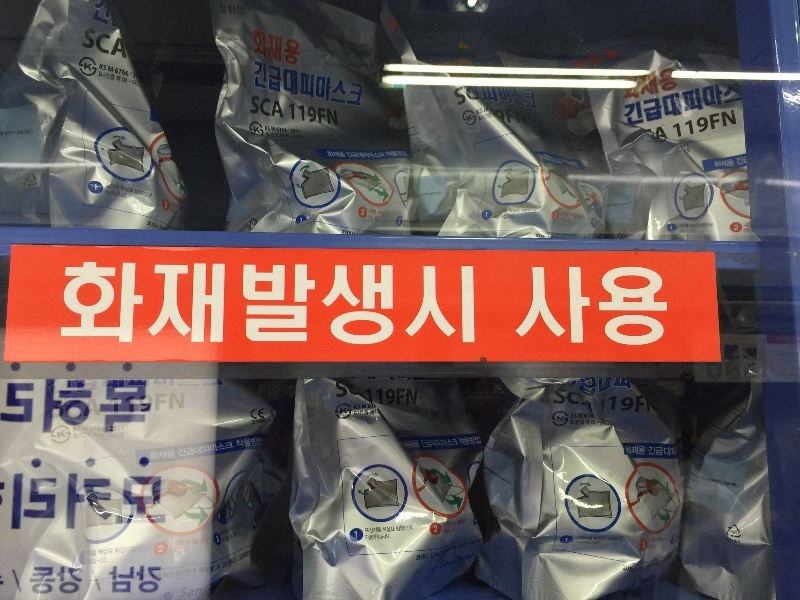text: (65, 259, 80, 353), (81, 259, 96, 353), (97, 259, 112, 353), (113, 259, 128, 353), (129, 259, 144, 353), (145, 259, 160, 353), (161, 259, 176, 353), (177, 259, 192, 353), (193, 259, 208, 353), (209, 259, 224, 353), (225, 259, 240, 353), (241, 259, 256, 353), (257, 259, 272, 353), (273, 259, 288, 353), (289, 259, 304, 353), (305, 259, 320, 353), (321, 259, 336, 353), (337, 259, 352, 353), (353, 259, 368, 353), (369, 259, 384, 353), (385, 259, 400, 353), (401, 259, 416, 353), (417, 259, 432, 353), (433, 259, 448, 353), (449, 259, 464, 353), (529, 264, 544, 348), (545, 264, 560, 348), (561, 264, 576, 348), (577, 264, 592, 348), (593, 264, 608, 348), (609, 264, 624, 348), (625, 264, 640, 348), (641, 264, 656, 348), (657, 264, 672, 348), (465, 259, 476, 353), (1, 379, 16, 438), (17, 379, 32, 438), (33, 379, 48, 438), (49, 379, 64, 438), (65, 379, 80, 438), (81, 379, 96, 438), (97, 379, 112, 438), (113, 379, 128, 438), (129, 379, 144, 438), (17, 472, 32, 531), (33, 472, 48, 531), (49, 472, 64, 531), (65, 472, 80, 531), (81, 472, 96, 531), (97, 472, 112, 531), (113, 472, 128, 531), (129, 472, 144, 531), (145, 472, 160, 531), (257, 59, 272, 108), (273, 59, 288, 108), (289, 59, 304, 108), (305, 59, 320, 108), (321, 59, 336, 108), (337, 59, 352, 108), (625, 81, 640, 128), (641, 81, 656, 128), (657, 81, 672, 128), (673, 81, 688, 128), (689, 81, 704, 128), (705, 81, 720, 128), (721, 81, 736, 128), (257, 27, 272, 68), (273, 27, 288, 68), (353, 59, 365, 108), (97, 27, 112, 60), (289, 27, 301, 68), (561, 386, 576, 417), (577, 386, 592, 417), (113, 27, 127, 60), (113, 564, 128, 594), (129, 564, 144, 594), (145, 564, 160, 594), (33, 565, 48, 595), (49, 565, 64, 595), (65, 565, 80, 595), (97, 1, 112, 29), (161, 472, 168, 531), (769, 351, 784, 378), (785, 351, 800, 378), (113, 391, 128, 417), (129, 391, 144, 417), (145, 391, 160, 417), (161, 391, 176, 417), (641, 70, 656, 96), (737, 81, 745, 128), (257, 94, 272, 119), (1, 483, 16, 508), (658, 67, 672, 93), (289, 103, 304, 127), (305, 103, 320, 127), (321, 103, 336, 127), (465, 85, 481, 107), (65, 397, 80, 420), (81, 397, 96, 420), (593, 377, 608, 400), (609, 377, 624, 400), (673, 115, 688, 138), (689, 115, 704, 138), (497, 87, 512, 110), (513, 87, 528, 110), (721, 109, 737, 130), (641, 553, 656, 575), (657, 553, 672, 575), (86, 27, 96, 60), (578, 377, 592, 400), (449, 536, 464, 556), (465, 536, 480, 556), (449, 552, 464, 571), (609, 395, 624, 414), (625, 395, 640, 414), (52, 397, 64, 420), (273, 94, 284, 119), (452, 85, 464, 107), (177, 441, 192, 458), (193, 441, 208, 458), (209, 441, 224, 458), (369, 388, 384, 405), (385, 388, 400, 405), (401, 388, 416, 405), (49, 380, 64, 396), (65, 380, 80, 396), (81, 380, 96, 396), (97, 380, 112, 396), (113, 380, 128, 396), (129, 380, 144, 396), (145, 380, 160, 396), (321, 204, 336, 220), (513, 109, 528, 125), (481, 87, 496, 103), (705, 56, 720, 72), (721, 56, 736, 72), (177, 391, 186, 417), (709, 109, 720, 130), (465, 552, 477, 571), (273, 384, 288, 399), (625, 86, 640, 101), (513, 52, 528, 67), (529, 52, 544, 67), (161, 380, 175, 396), (657, 125, 671, 141), (675, 440, 688, 457), (337, 378, 348, 398), (545, 52, 559, 67), (625, 377, 634, 400), (529, 87, 538, 110), (252, 59, 256, 108), (499, 52, 512, 67), (484, 464, 496, 480), (308, 204, 320, 220), (62, 259, 64, 353), (690, 470, 704, 483), (689, 551, 703, 564), (673, 67, 680, 93), (161, 449, 176, 461), (561, 378, 576, 390), (129, 77, 144, 89), (225, 5, 240, 17), (13, 472, 16, 531), (225, 441, 235, 458), (689, 558, 703, 570), (113, 1, 119, 29), (708, 364, 720, 378), (657, 446, 672, 457), (1, 575, 16, 586), (241, 437, 256, 448), (545, 153, 560, 164), (113, 189, 128, 200), (252, 27, 256, 68), (97, 397, 104, 420), (408, 135, 416, 155), (180, 586, 192, 599), (115, 67, 128, 79), (555, 386, 560, 417), (725, 364, 736, 378), (725, 346, 736, 360), (562, 137, 576, 148), (440, 552, 448, 571), (600, 395, 608, 414), (721, 478, 736, 488), (177, 567, 192, 577), (465, 436, 480, 446), (177, 379, 192, 389), (193, 379, 208, 389), (209, 379, 224, 389), (742, 401, 752, 416), (337, 204, 346, 220), (99, 70, 112, 81), (563, 159, 576, 170), (179, 203, 192, 214), (721, 158, 735, 168), (97, 424, 112, 433), (433, 439, 448, 448), (289, 384, 298, 399), (417, 190, 432, 199), (385, 132, 400, 141), (229, 521, 240, 533), (228, 556, 240, 567), (149, 449, 160, 461), (481, 111, 493, 122), (193, 586, 203, 599), (241, 550, 251, 563), (497, 109, 507, 122), (504, 109, 512, 125), (642, 541, 656, 550), (743, 362, 752, 376), (17, 568, 22, 593), (251, 94, 256, 119), (689, 476, 704, 484), (673, 536, 688, 544), (625, 564, 637, 574), (442, 536, 448, 556), (209, 564, 221, 574), (108, 564, 112, 594), (100, 63, 112, 73), (129, 67, 139, 79), (465, 114, 480, 122), (148, 220, 160, 230), (145, 379, 147, 438), (115, 546, 128, 555), (403, 220, 416, 229), (705, 115, 710, 138), (434, 525, 448, 533), (354, 531, 368, 539), (98, 548, 112, 556), (402, 440, 416, 448), (229, 530, 240, 540), (501, 475, 512, 485), (420, 439, 432, 448), (84, 62, 96, 71), (743, 348, 752, 360), (164, 201, 176, 210), (369, 534, 384, 541), (353, 382, 360, 397), (353, 377, 368, 384), (369, 377, 384, 384), (385, 377, 400, 384), (401, 377, 416, 384), (417, 377, 432, 384), (353, 152, 368, 159), (369, 152, 384, 159), (609, 201, 624, 208), (680, 551, 688, 564), (417, 553, 430, 561), (648, 399, 656, 412), (710, 478, 720, 488), (742, 156, 752, 166), (631, 446, 640, 457), (453, 518, 464, 527), (113, 424, 124, 433), (81, 431, 92, 440), (497, 208, 508, 217), (354, 410, 368, 417), (386, 212, 400, 219), (625, 76, 639, 83), (657, 536, 669, 544), (177, 546, 189, 554), (257, 408, 265, 420), (641, 395, 646, 414), (401, 525, 414, 532), (369, 527, 382, 534), (161, 572, 174, 579), (113, 432, 126, 439), (483, 106, 496, 113), (609, 537, 624, 543), (199, 564, 208, 574), (29, 565, 32, 595), (353, 404, 368, 410), (449, 439, 459, 448), (577, 414, 592, 420), (385, 151, 400, 157), (433, 190, 443, 199), (561, 211, 576, 217), (545, 233, 560, 239), (577, 148, 592, 154), (455, 56, 464, 66), (135, 189, 144, 199), (636, 553, 640, 575), (648, 446, 656, 457), (97, 557, 108, 565), (257, 437, 265, 448), (117, 75, 128, 83), (737, 156, 745, 167), (340, 407, 352, 414), (578, 214, 592, 220), (753, 362, 759, 376), (433, 551, 442, 560), (625, 446, 633, 456), (577, 536, 593, 541), (56, 429, 64, 439), (417, 135, 421, 155), (369, 214, 379, 222), (145, 189, 153, 199), (699, 56, 704, 72), (737, 56, 742, 72), (109, 391, 112, 417), (353, 229, 366, 235), (657, 70, 660, 96), (565, 537, 576, 544), (385, 526, 396, 533), (597, 419, 608, 426), (105, 189, 112, 200), (1, 132, 16, 137), (17, 130, 32, 135), (689, 223, 704, 228), (727, 537, 736, 545), (682, 558, 688, 570), (647, 536, 656, 544), (241, 521, 247, 533), (87, 557, 96, 565), (250, 408, 256, 420), (487, 445, 496, 453), (775, 335, 784, 343), (4, 130, 16, 136), (289, 128, 301, 134), (500, 214, 512, 220), (535, 153, 544, 161), (593, 148, 605, 154), (370, 410, 384, 415), (289, 134, 303, 139), (326, 151, 336, 158), (337, 151, 347, 158), (561, 217, 571, 224), (713, 158, 720, 168), (465, 56, 472, 66), (121, 184, 128, 194), (234, 437, 240, 448), (277, 128, 288, 134), (485, 212, 496, 218), (705, 470, 710, 483), (491, 109, 496, 122), (177, 539, 185, 547), (497, 464, 501, 480), (647, 544, 656, 551), (89, 424, 96, 433), (97, 431, 106, 438), (705, 222, 714, 229), (593, 386, 595, 417), (577, 541, 592, 545), (593, 537, 608, 541), (225, 534, 231, 544), (161, 564, 163, 594), (81, 565, 83, 595), (458, 436, 464, 446), (268, 384, 272, 399), (123, 77, 128, 89), (241, 5, 246, 17), (342, 229, 352, 235), (129, 184, 135, 194), (449, 527, 456, 535), (152, 572, 160, 579), (88, 550, 96, 557), (169, 546, 176, 554), (201, 538, 208, 546), (81, 426, 89, 433), (577, 419, 585, 426), (785, 335, 792, 343), (25, 186, 32, 194), (94, 1, 96, 29), (625, 201, 633, 208), (737, 364, 741, 378), (113, 183, 120, 191), (641, 446, 646, 457), (225, 527, 230, 538), (129, 546, 135, 555), (74, 431, 80, 440), (257, 419, 266, 425), (679, 223, 688, 229), (743, 227, 752, 233), (161, 224, 170, 230), (236, 550, 240, 563), (365, 388, 368, 405), (193, 567, 198, 577), (14, 568, 16, 593), (465, 73, 475, 78), (449, 73, 459, 78), (385, 534, 392, 541), (73, 426, 80, 433), (433, 377, 440, 384), (585, 419, 592, 426), (265, 125, 272, 132), (345, 152, 352, 159), (377, 210, 384, 217), (569, 212, 576, 219), (218, 535, 224, 543), (170, 539, 176, 547), (220, 5, 224, 17), (337, 103, 339, 127), (401, 151, 409, 157), (362, 209, 368, 217), (369, 209, 377, 215), (536, 233, 544, 239), (753, 348, 757, 360), (106, 183, 112, 191), (170, 208, 176, 216), (623, 81, 624, 128), (349, 382, 352, 397), (679, 229, 688, 234), (683, 144, 688, 153), (673, 446, 677, 457), (220, 527, 224, 538), (185, 539, 192, 545), (570, 419, 576, 426), (513, 208, 520, 214), (554, 212, 560, 219), (737, 346, 740, 360), (481, 536, 483, 556), (443, 527, 448, 535), (33, 186, 38, 194), (529, 209, 537, 214), (689, 229, 697, 234), (744, 222, 752, 227), (171, 202, 176, 210), (689, 485, 695, 491), (225, 561, 229, 570), (193, 539, 199, 545), (570, 414, 576, 420), (417, 220, 421, 229), (92, 184, 96, 193), (443, 521, 448, 528), (273, 133, 280, 138), (521, 209, 528, 214), (603, 201, 608, 208), (699, 222, 704, 229), (113, 70, 116, 81), (541, 153, 544, 164), (561, 153, 564, 164), (577, 159, 580, 170), (477, 111, 480, 122), (737, 537, 741, 545), (417, 440, 421, 448), (46, 380, 48, 396), (280, 134, 288, 138), (476, 108, 480, 116), (497, 87, 499, 103), (730, 530, 736, 535), (161, 544, 164, 554), (369, 403, 374, 409), (266, 133, 272, 138), (561, 233, 566, 239), (622, 86, 624, 101), (251, 222, 256, 228), (593, 541, 600, 545), (449, 521, 453, 528), (396, 525, 400, 532), (92, 431, 96, 438), (348, 377, 352, 384), (556, 415, 560, 422), (593, 419, 597, 426), (609, 419, 613, 426), (257, 127, 261, 134), (441, 61, 448, 65), (221, 561, 224, 570), (767, 351, 768, 378), (639, 70, 640, 96), (27, 179, 32, 184), (252, 419, 256, 425), (300, 217, 304, 223), (684, 143, 688, 149), (481, 108, 484, 116), (449, 61, 455, 65), (673, 553, 674, 575), (465, 517, 468, 524), (365, 534, 368, 541), (365, 527, 368, 534), (109, 432, 112, 439), (561, 415, 564, 422), (273, 125, 276, 132), (737, 478, 739, 488), (622, 564, 624, 574), (241, 530, 243, 540), (222, 534, 224, 544), (158, 544, 160, 554), (284, 134, 288, 139), (492, 215, 496, 220), (619, 233, 624, 237), (460, 73, 464, 78), (494, 208, 496, 217), (513, 214, 516, 220), (509, 208, 512, 214), (417, 388, 418, 405), (177, 202, 179, 210), (177, 208, 179, 216), (497, 215, 500, 220), (462, 517, 464, 524), (382, 526, 384, 533), (254, 127, 256, 134), (385, 152, 387, 159), (593, 219, 595, 226), (734, 224, 736, 231), (737, 224, 739, 231), (721, 364, 722, 378), (622, 76, 624, 83), (593, 414, 595, 420), (559, 378, 560, 390), (577, 378, 578, 390), (670, 225, 672, 231), (735, 156, 736, 167), (623, 446, 624, 456), (481, 436, 482, 446), (33, 179, 35, 184), (113, 63, 114, 73), (689, 148, 691, 153), (431, 551, 432, 560), (415, 190, 416, 199), (97, 184, 98, 193), (113, 548, 114, 556), (657, 544, 658, 551), (399, 218, 400, 225), (577, 212, 578, 219), (559, 217, 560, 224), (607, 537, 608, 543), (367, 403, 368, 409), (575, 148, 576, 154), (737, 530, 738, 535), (33, 130, 34, 135), (751, 228, 752, 233), (753, 228, 754, 233), (687, 148, 688, 153), (625, 233, 626, 237)
